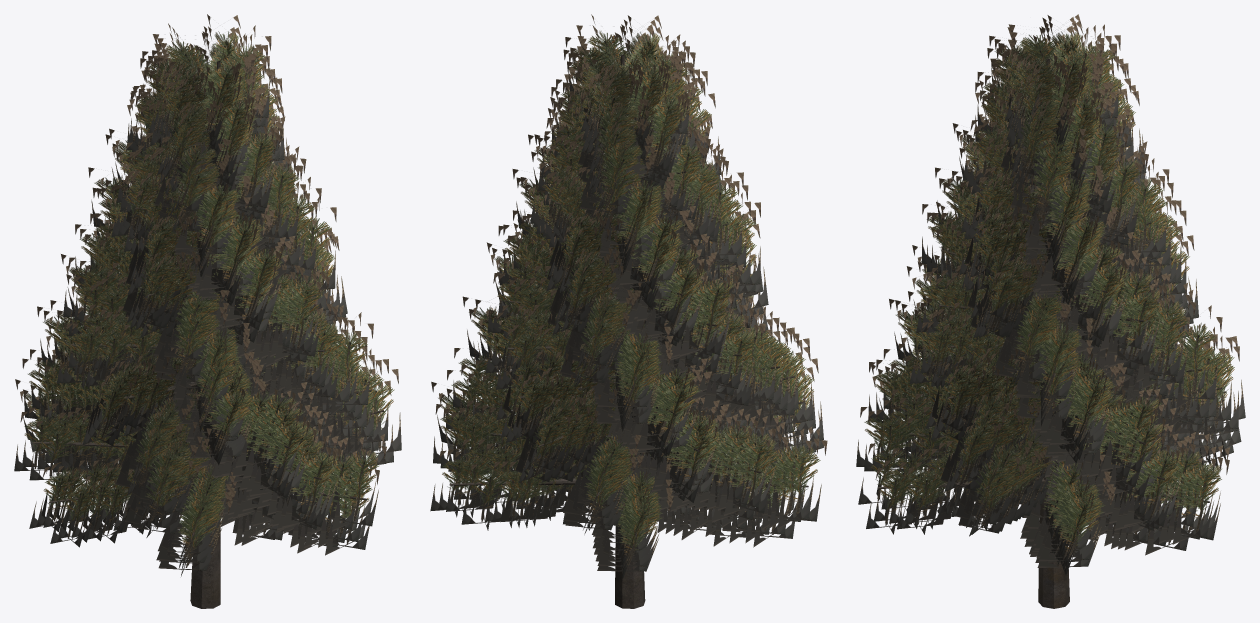
The model's file is detailed_pine.glb.
The picture shows the model from 3 angles, left to right: view 1: azimuth 30°, elevation 25°; view 2: azimuth 150°, elevation 25°; view 3: azimuth 270°, elevation 25°; orthographic projection.
Parts seen in each view (by area): view 1: Fine needle clusters, Textured trunk and branches; view 2: Fine needle clusters, Textured trunk and branches; view 3: Fine needle clusters, Textured trunk and branches.
Part boxes in pixels (<box>): Fine needle clusters: <box>14,14,401,576</box>; Textured trunk and branches: <box>33,61,383,608</box>; Fine needle clusters: <box>430,14,827,578</box>; Textured trunk and branches: <box>449,54,808,608</box>; Fine needle clusters: <box>856,14,1245,575</box>; Textured trunk and branches: <box>874,58,1226,608</box>.
Bounding box in the file's own units: 5.61 × 8.35 × 5.16.
2 materials, 2 textured.
